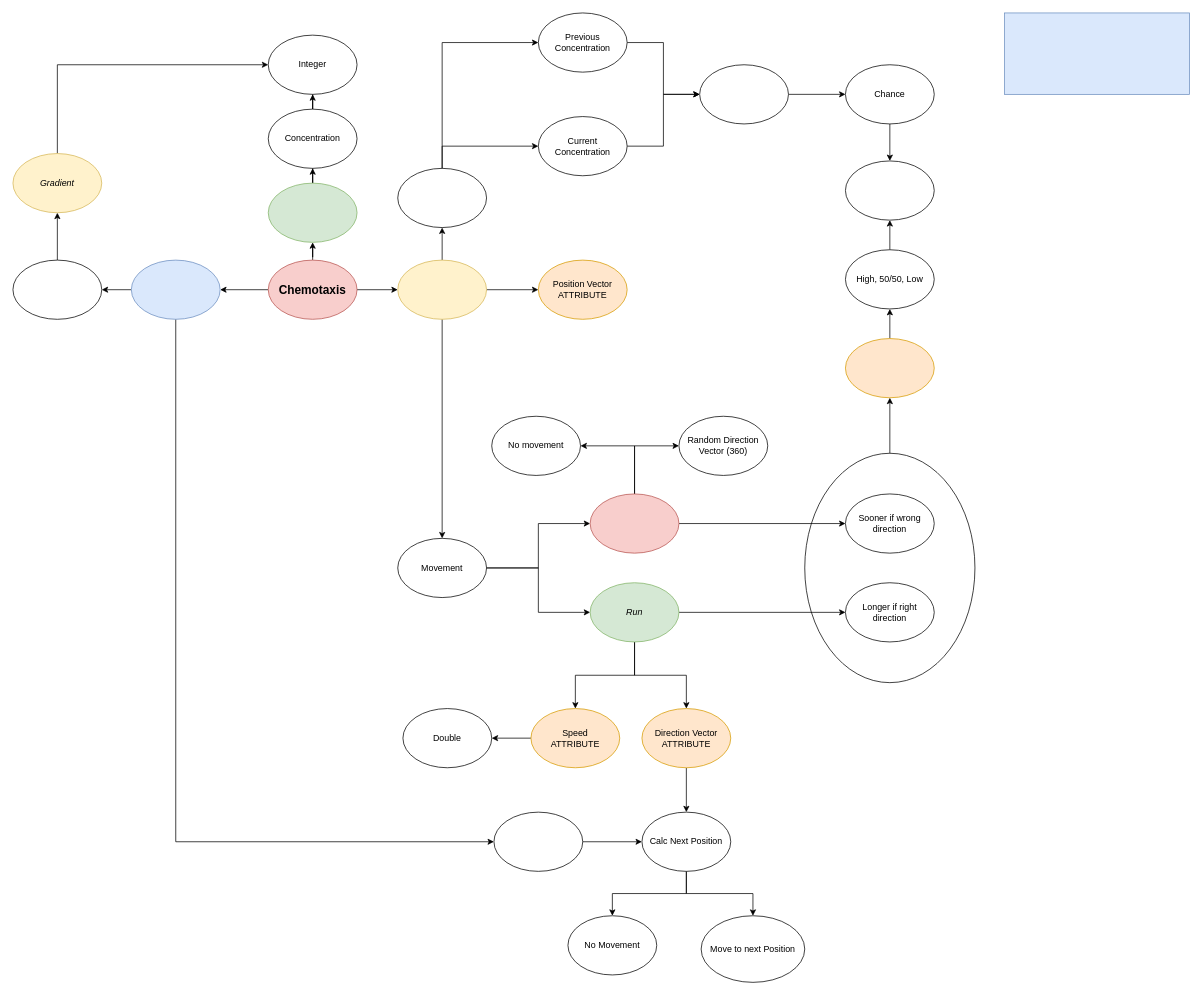
Image size: 1203x995. Some labels were removed from this diagram. Each missing label, with the centre of its shape:
Array: (57,289)
Bacteria: (442,289)
Calc: (743,94)
Chemotaxis Implementation Brain-Storm 9.6.20: (1097,53)
Environment: (175,289)
Nutrition: (312,212)
Positive/Neutral /Negative: (889,190)
Sensor: (442,198)
Tumble: (634,523)
Tumble Chance ATTRIBUTE: (889,368)
Verify: (538,841)
